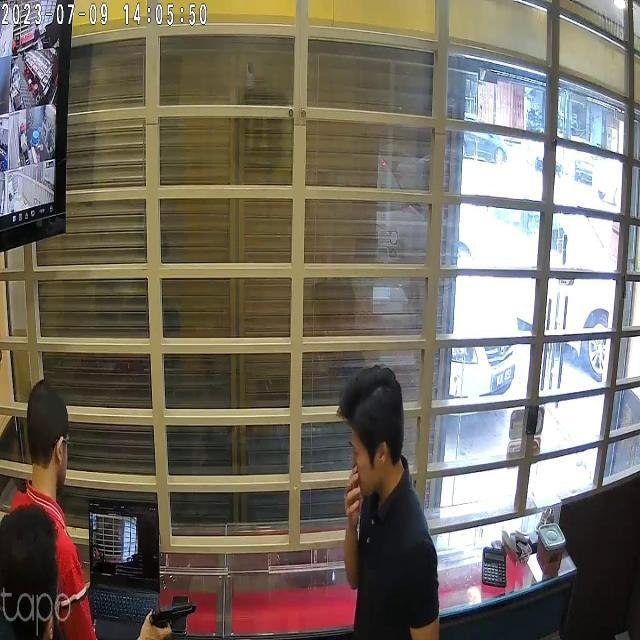Gun: (134, 592, 204, 636)
